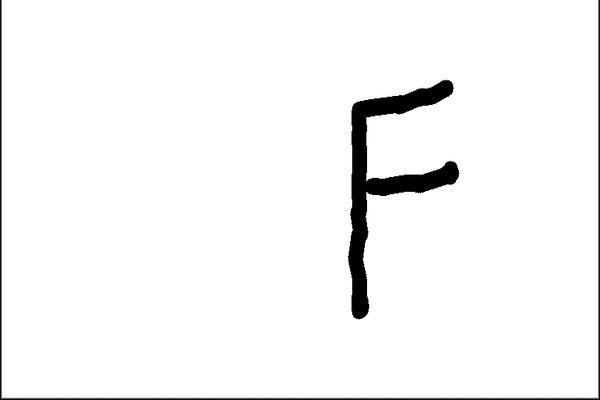F: (337, 73, 473, 322)
